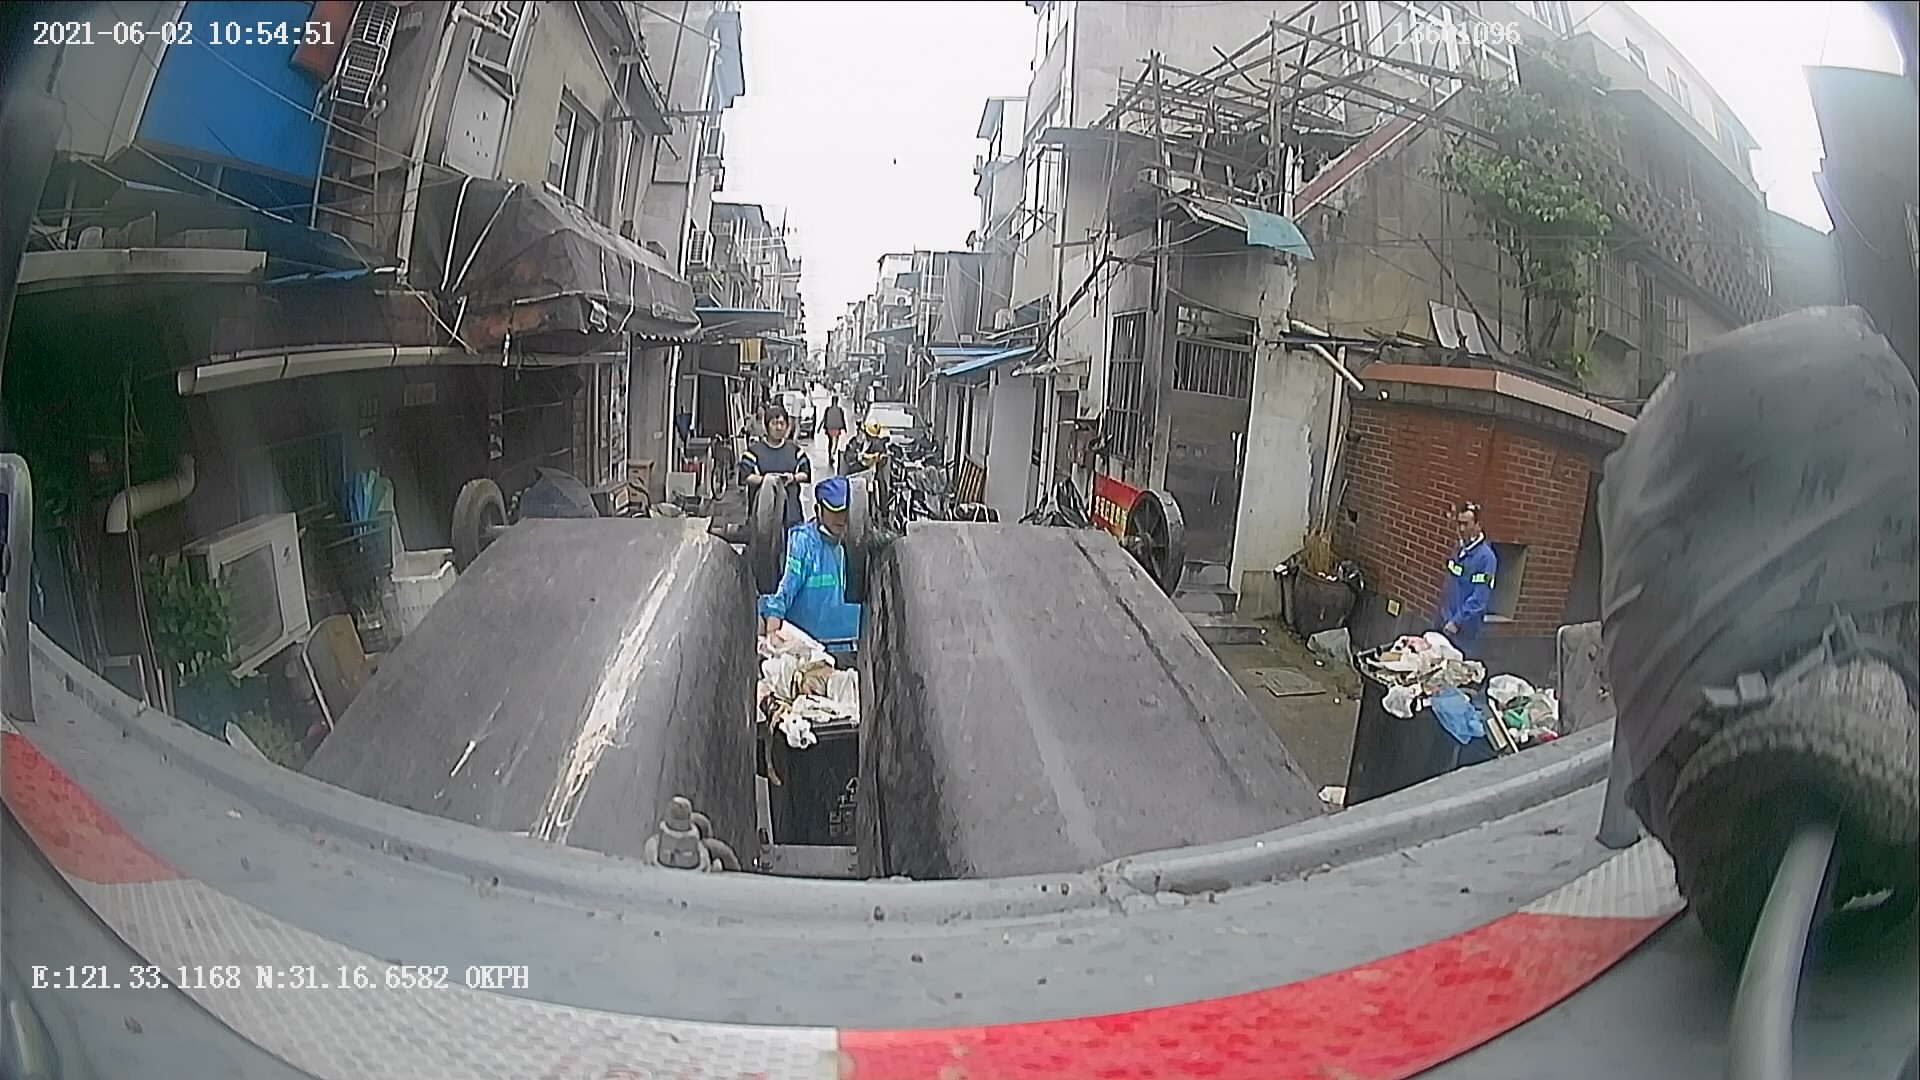Dry_garbage: (260, 436, 760, 992), (814, 464, 1284, 1002)
